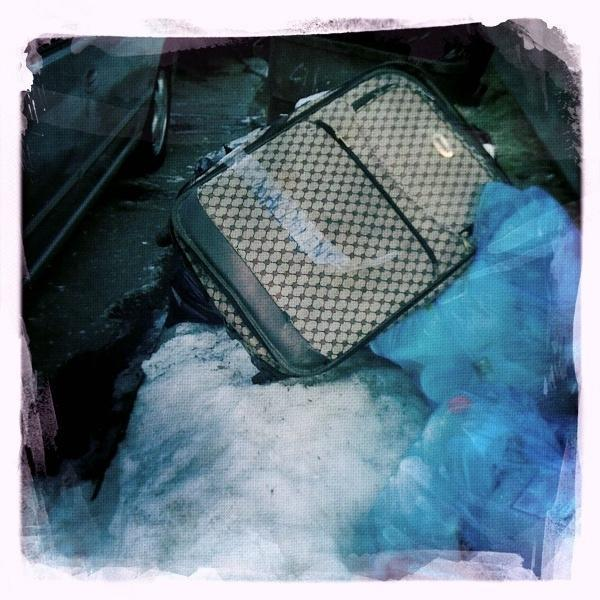car: (20, 40, 172, 301)
